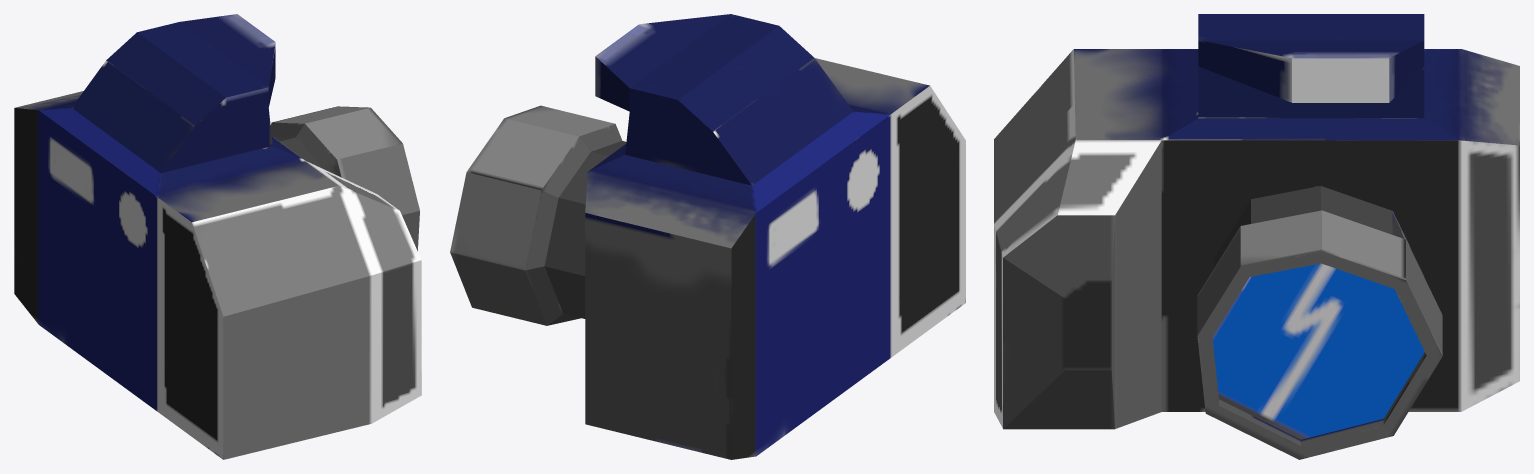
File: Camara.fbx
3 views of the same model, side by side, from view 1: azimuth 30°, elevation 25°; view 2: azimuth 150°, elevation 25°; view 3: azimuth 270°, elevation 25° (orthographic). The views are drawn at different scales.
Parts seen in each view (by area): view 1: Camara_model; view 2: Camara_model; view 3: Camara_model.
Boxes of the visible parts, x1,y1,x2,y2 form: Camara_model: (14, 14, 421, 459); Camara_model: (450, 14, 965, 459); Camara_model: (994, 14, 1519, 459).
Size of the model in its own units: 271 by 270 by 351.
